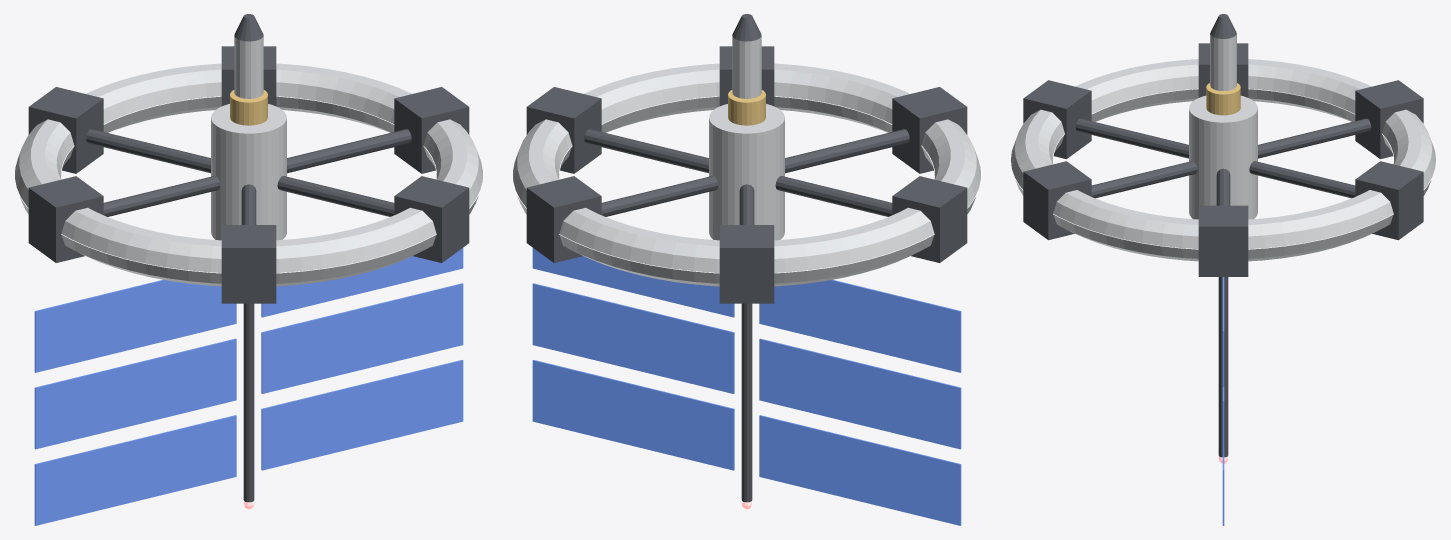
Rendered from halcyon.glb.
3 views of the same model, side by side, from view 1: azimuth 30°, elevation 25°; view 2: azimuth 150°, elevation 25°; view 3: azimuth 270°, elevation 25° (orthographic). The views are drawn at different scales.
Parts seen in each view (by area): view 1: Ring, Wing-1-14, Wing1-14, Wing-1-10, Wing1-10, Wing-1-6, Hub, Module4, Wing1-6, Module3, Module5, Module2 (+12 smaller); view 2: Ring, Wing-1-14, Wing1-14, Wing-1-10, Wing1-10, Wing-1-6, Hub, Module2, Wing1-6, Module3, Module1, Module4 (+12 smaller); view 3: Ring, Hub, Module0, Module1, Module5, Module2, Module4, Mast, Spoke2, Spoke4, Spoke1, Spoke5 (+5 smaller).
Boxes of the visible parts, left/top/right/bottom form: Ring: left=15, top=63, right=482, bottom=286; Wing-1-14: left=34, top=415, right=236, bottom=525; Wing1-14: left=261, top=360, right=463, bottom=470; Wing-1-10: left=34, top=338, right=236, bottom=449; Wing1-10: left=261, top=283, right=463, bottom=393; Wing-1-6: left=34, top=279, right=236, bottom=372; Hub: left=211, top=104, right=286, bottom=240; Module4: left=221, top=225, right=276, bottom=303; Wing1-6: left=261, top=248, right=463, bottom=317; Module3: left=28, top=176, right=103, bottom=262; Module5: left=394, top=176, right=469, bottom=262; Module2: left=28, top=87, right=103, bottom=173; Ring: left=513, top=63, right=980, bottom=286; Wing-1-14: left=759, top=415, right=961, bottom=525; Wing1-14: left=532, top=360, right=734, bottom=470; Wing-1-10: left=759, top=338, right=961, bottom=449; Wing1-10: left=532, top=283, right=734, bottom=393; Wing-1-6: left=759, top=279, right=961, bottom=372; Hub: left=709, top=104, right=784, bottom=240; Module2: left=719, top=225, right=774, bottom=303; Wing1-6: left=532, top=248, right=734, bottom=317; Module3: left=892, top=176, right=967, bottom=262; Module1: left=526, top=176, right=601, bottom=262; Module4: left=892, top=87, right=967, bottom=173; Ring: left=1011, top=59, right=1435, bottom=261; Hub: left=1189, top=95, right=1257, bottom=219; Module0: left=1198, top=205, right=1248, bottom=276; Module1: left=1355, top=161, right=1423, bottom=240; Module5: left=1023, top=161, right=1091, bottom=240; Module2: left=1355, top=80, right=1423, bottom=159; Module4: left=1023, top=80, right=1091, bottom=159; Mast: left=1218, top=277, right=1228, bottom=457; Spoke2: left=1258, top=118, right=1371, bottom=158; Spoke4: left=1075, top=118, right=1188, bottom=158; Spoke1: left=1249, top=161, right=1355, bottom=198; Spoke5: left=1091, top=161, right=1197, bottom=198.
Size of the model in its own units: 23.4 by 25.75 by 22.24.
